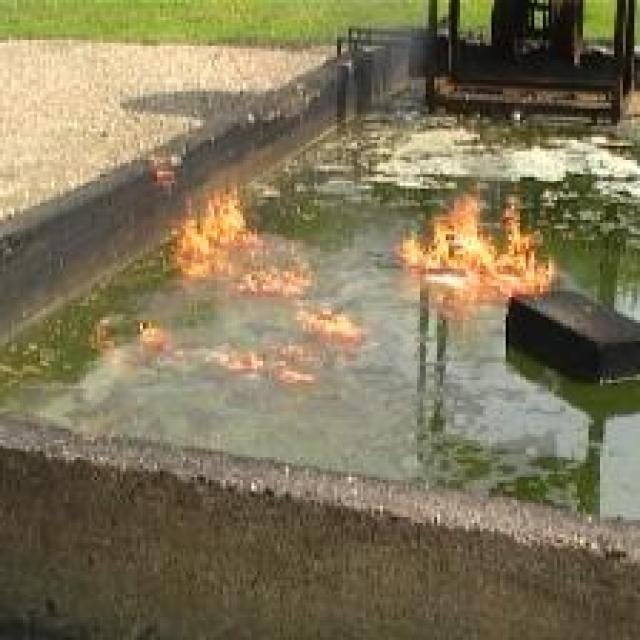Fire: (398, 192, 556, 298), (173, 182, 310, 298), (293, 306, 370, 340)
